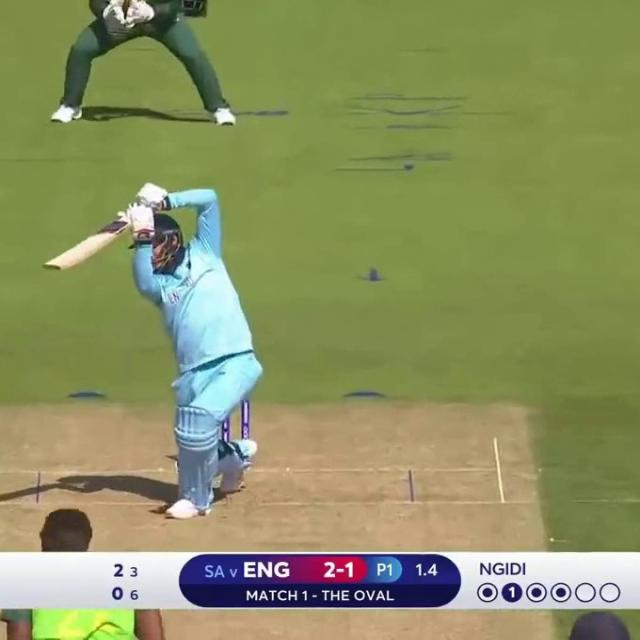bat: (42, 220, 130, 271)
toe: (43, 264, 61, 270)
